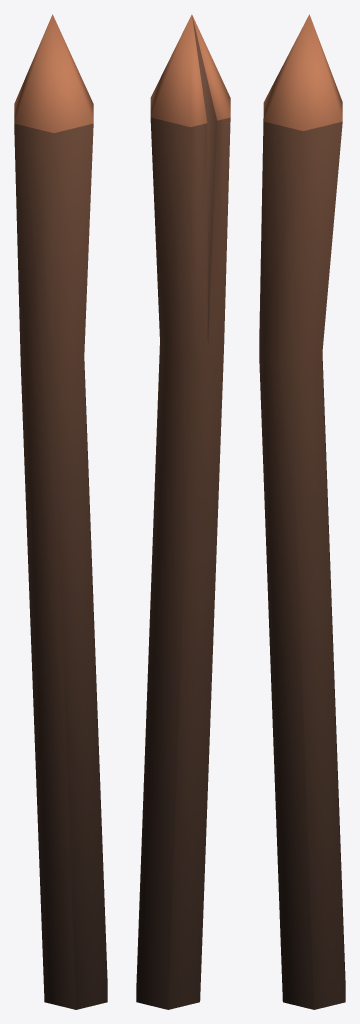
File: Fence_3B_Part_2.fbx
3 views of the same model, side by side, from view 1: azimuth 30°, elevation 25°; view 2: azimuth 210°, elevation 25°; view 3: azimuth 330°, elevation 25° (orthographic).
Parts seen in each view (by area): view 1: Fence_3B_Part_2; view 2: Fence_3B_Part_2; view 3: Fence_3B_Part_2.
Part boxes in pixels (<box>): Fence_3B_Part_2: <box>14,14,107,1009</box>; Fence_3B_Part_2: <box>136,14,230,1009</box>; Fence_3B_Part_2: <box>259,14,345,1009</box>.
Bounding box in the file's own units: 10.77 × 114 × 8.74.
